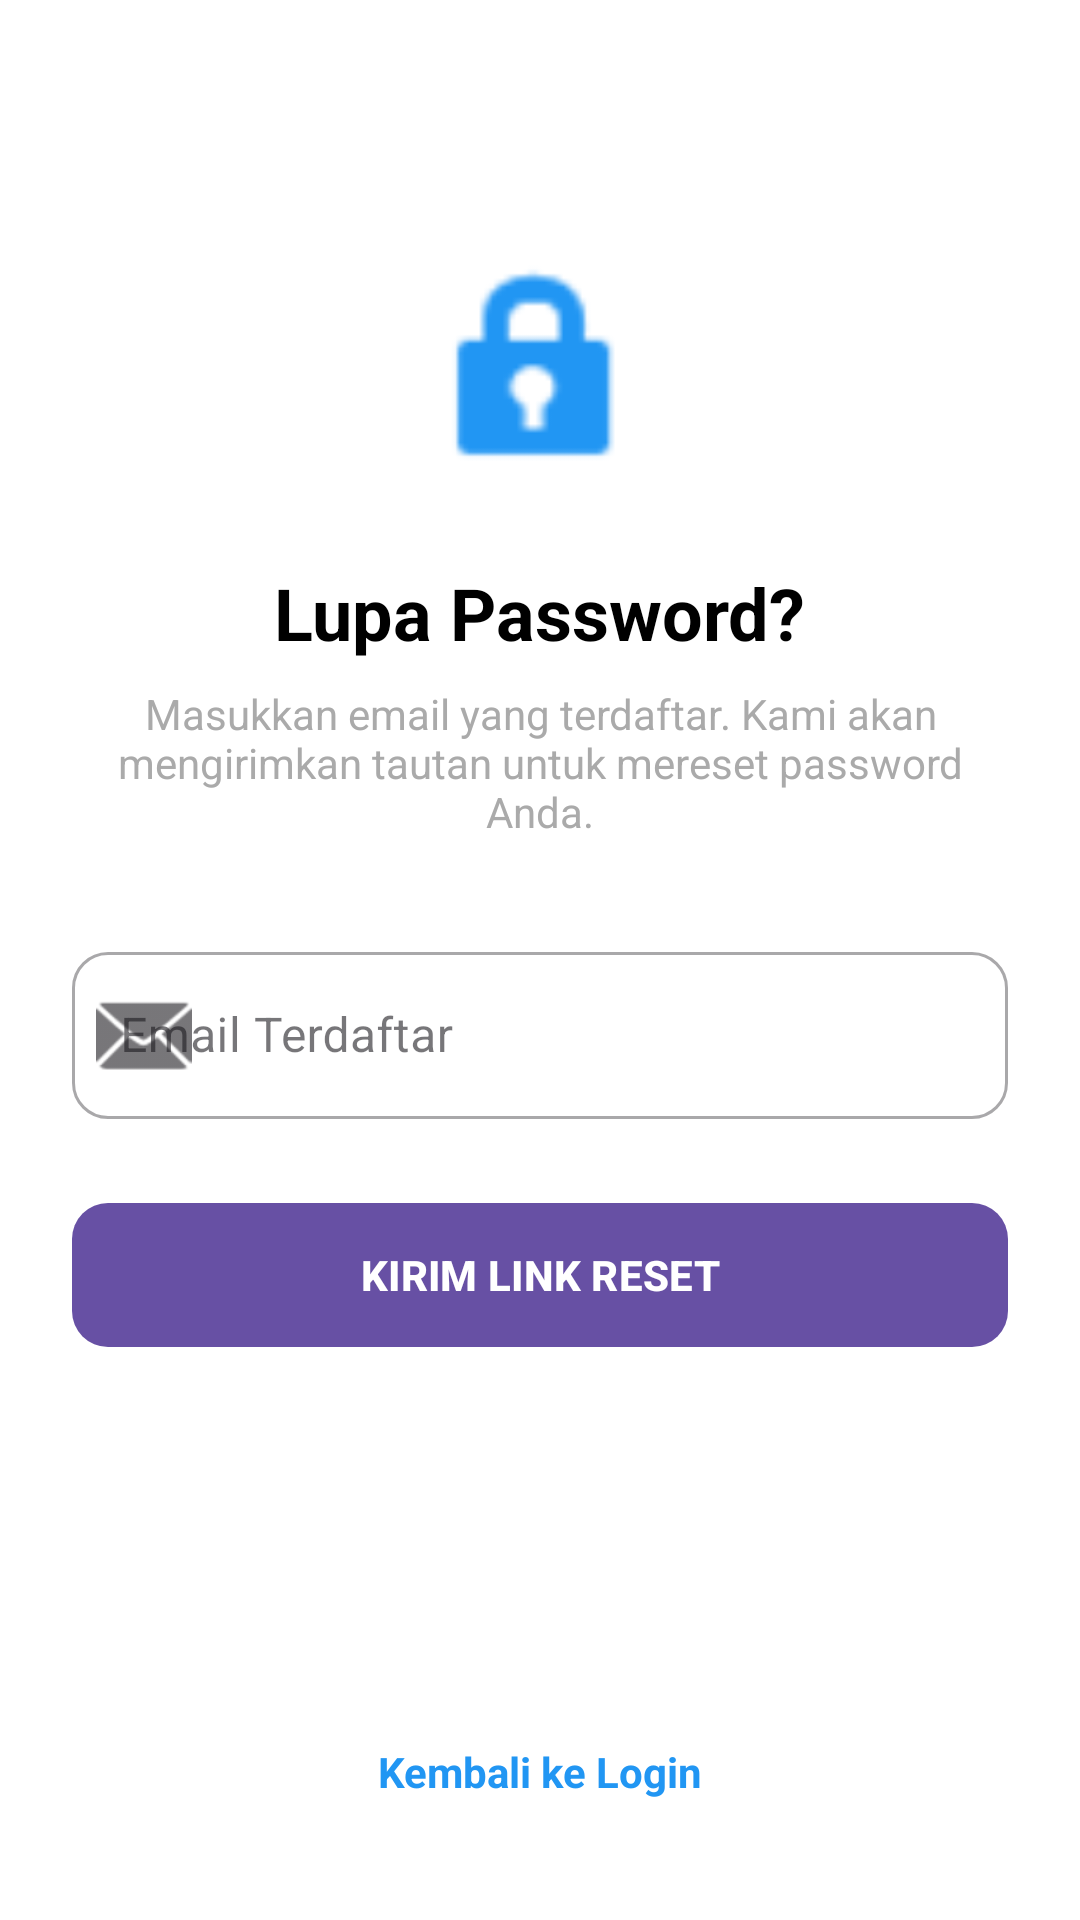

Screen size 1080 × 1920. Icon name, then its box in pixels as bbox=[x1, y1, x2, y2]:
lock idle: bbox=[456, 272, 613, 456]
